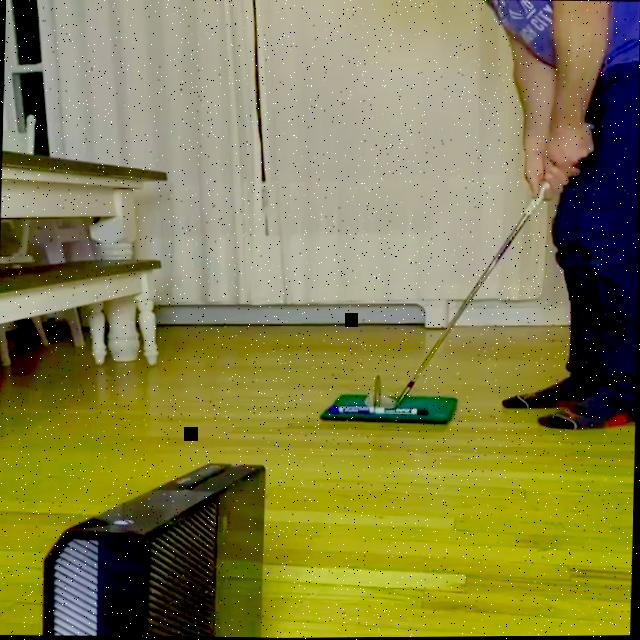ClubHead: (364, 391, 394, 408)
